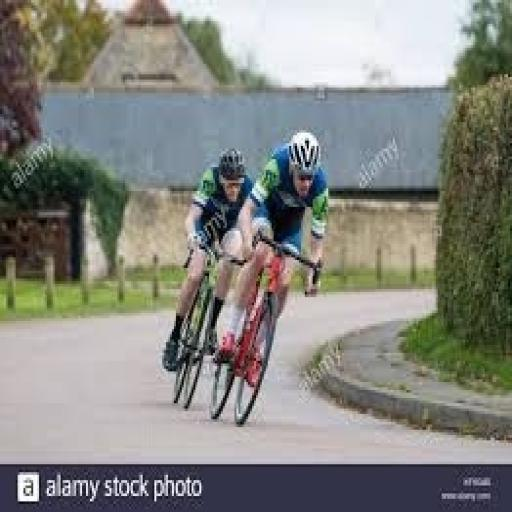cycling: (215, 130, 332, 390), (160, 146, 260, 377)
